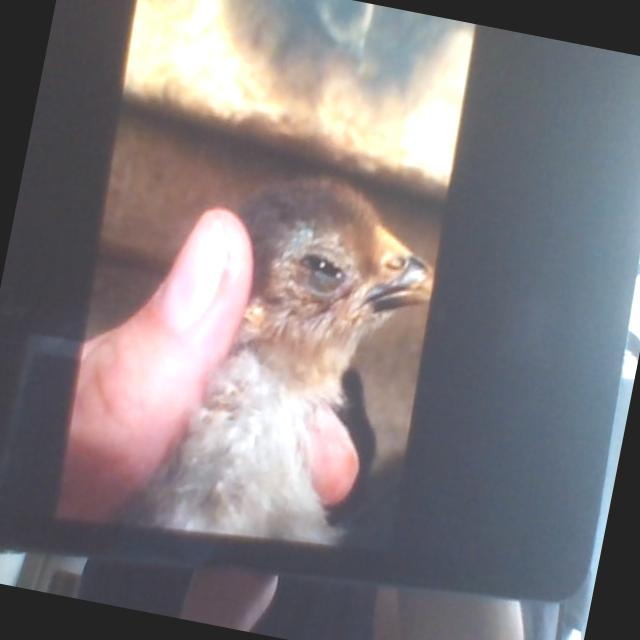Sick: (166, 161, 444, 560)
